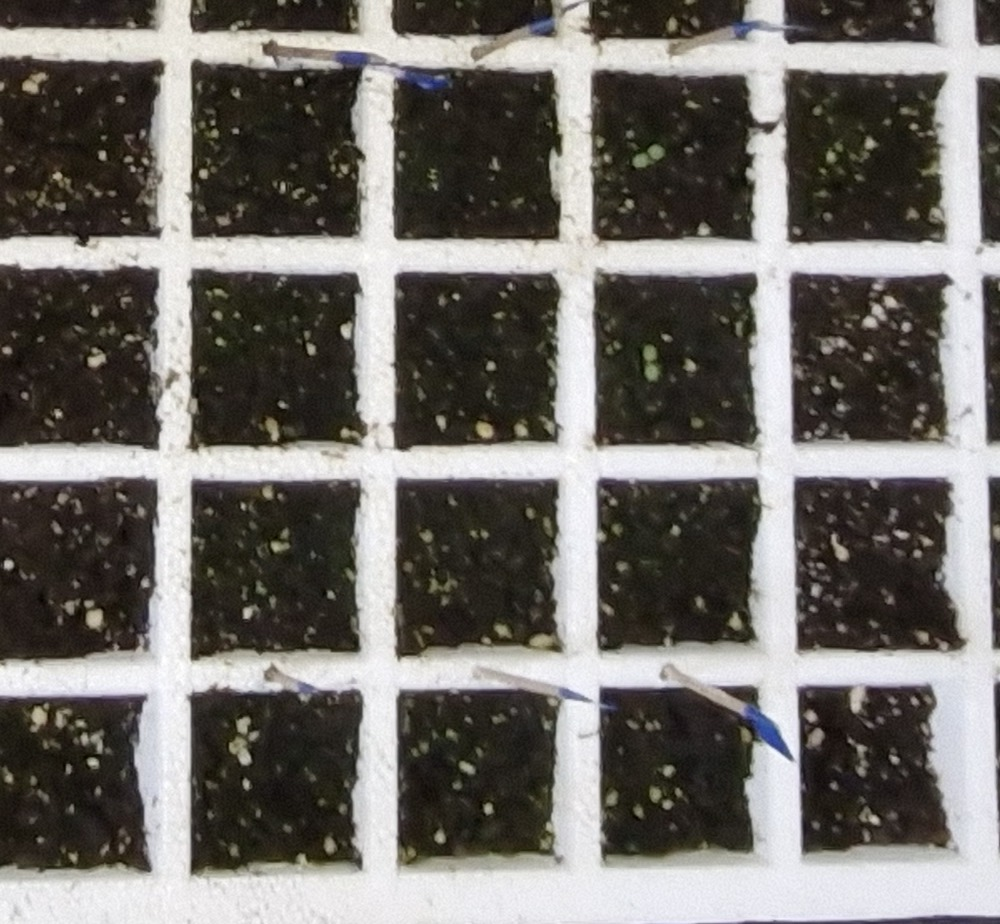Folha: (648, 144, 665, 160), (646, 363, 659, 381), (633, 153, 647, 167), (645, 345, 657, 361)
Germinacao: (633, 145, 666, 168), (642, 344, 661, 383)
